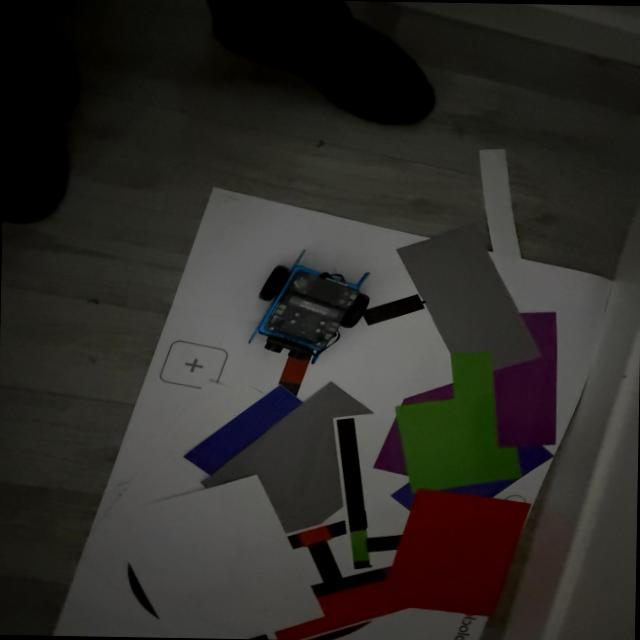mbot-detection: (238, 244, 380, 368)
